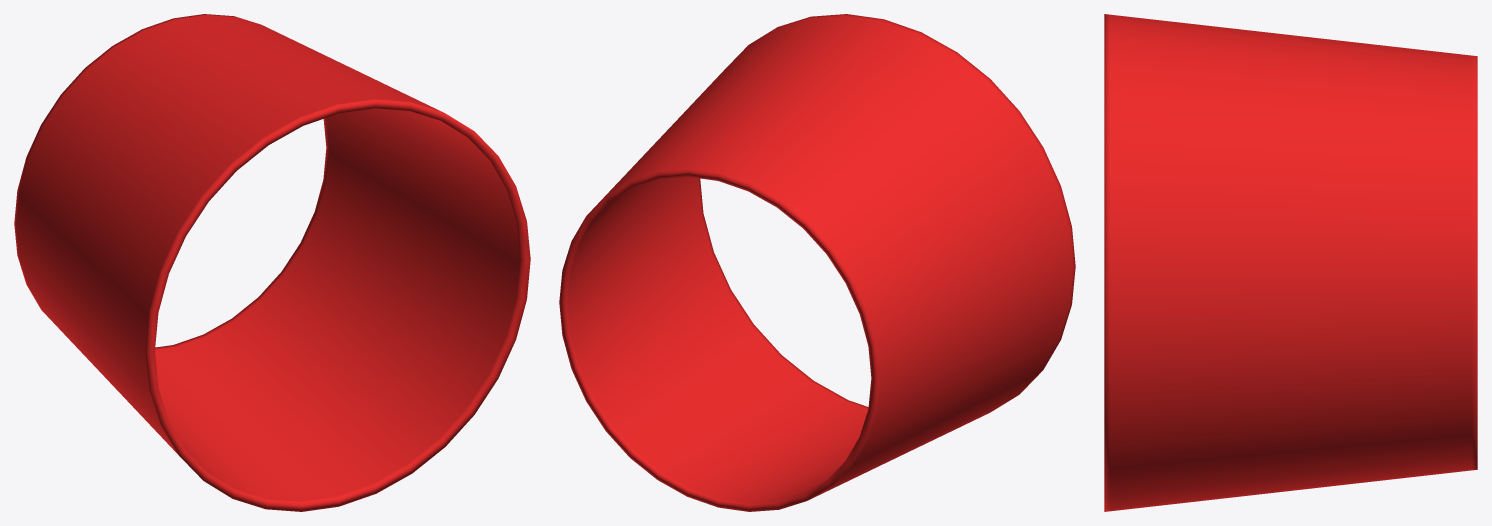
3 renders of one model, left to right at view 1: azimuth 30°, elevation 25°; view 2: azimuth 150°, elevation 25°; view 3: azimuth 270°, elevation 25°, orthographic. The views are drawn at different scales.
Bounding box in the file's own units: 0.5818 × 0.5818 × 0.4356.
